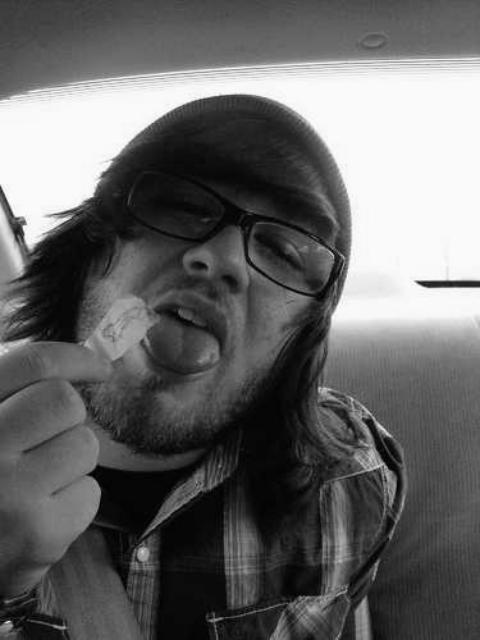Seatbelt: (42, 516, 156, 640)
